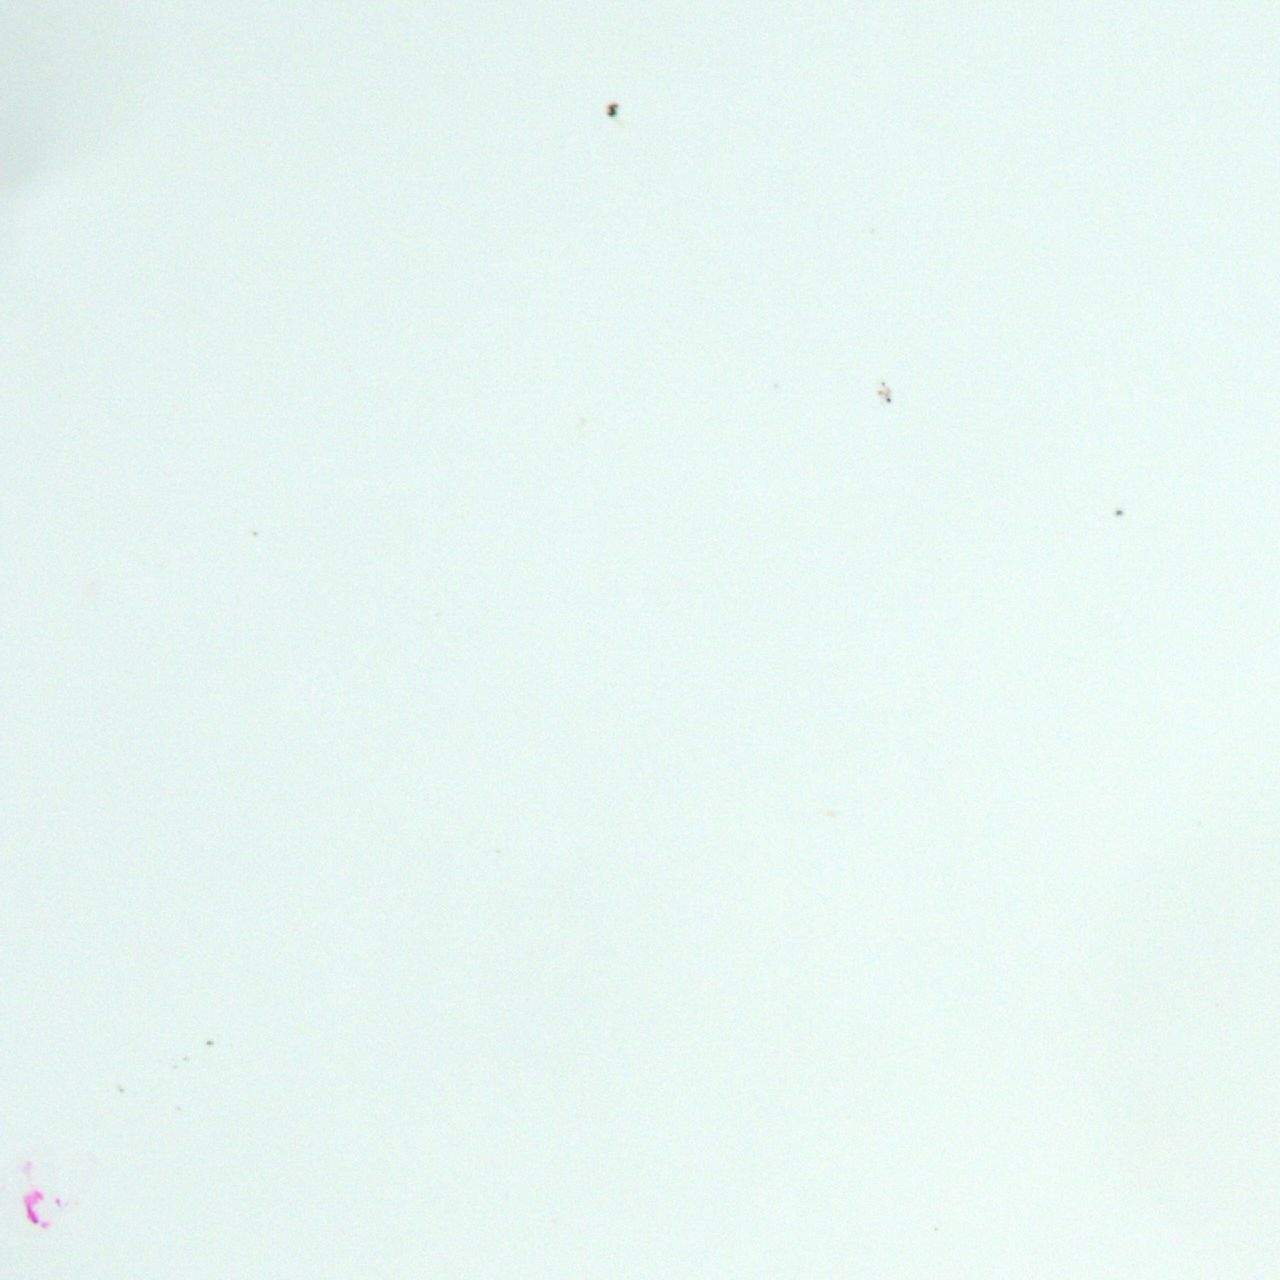dust: (605, 102, 619, 118), (205, 1039, 215, 1046), (251, 527, 258, 536), (876, 392, 886, 396), (1115, 509, 1122, 516), (886, 397, 892, 404), (880, 381, 886, 387), (175, 1107, 182, 1111), (182, 1056, 188, 1061), (118, 1088, 123, 1092)
